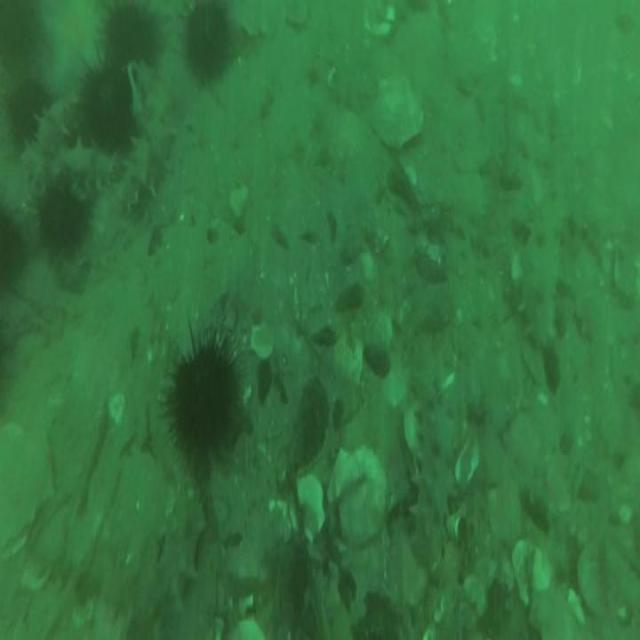echinus: (172, 344, 239, 450), (180, 0, 234, 82), (78, 72, 132, 152), (42, 182, 87, 260), (108, 1, 158, 64), (8, 76, 42, 140), (2, 205, 20, 298)
holothurian: (409, 374, 455, 577), (138, 487, 207, 616), (522, 201, 565, 349), (121, 129, 175, 215)
scallop: (330, 447, 388, 547), (372, 74, 422, 146)
starfish: (40, 1, 101, 87)
